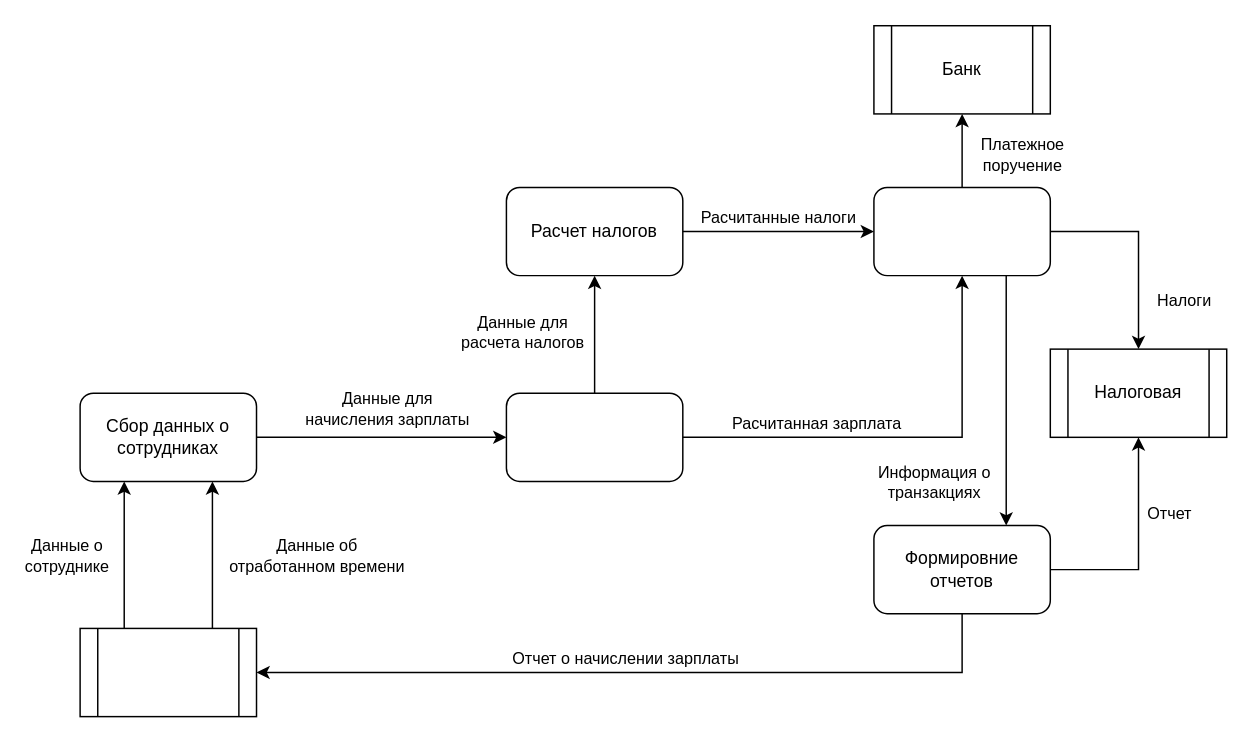
Some shapes in this 1254 by 742 pixel diagram are drawn without their labels. The shapes that lost their labels are listed below. From the top down, each one's centre as x and y in pixels, then its label:
At [961,231]: "Отправка зарплаты".
At [594,436]: "Расчет зарплаты".
At [168,672]: "Сотрудник".
